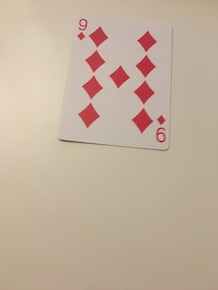NineOfDiamonds: (59, 11, 178, 155)
